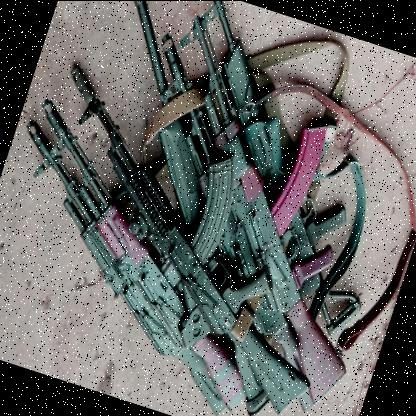rifle: (0, 65, 378, 416), (96, 12, 416, 400), (0, 120, 290, 415)
